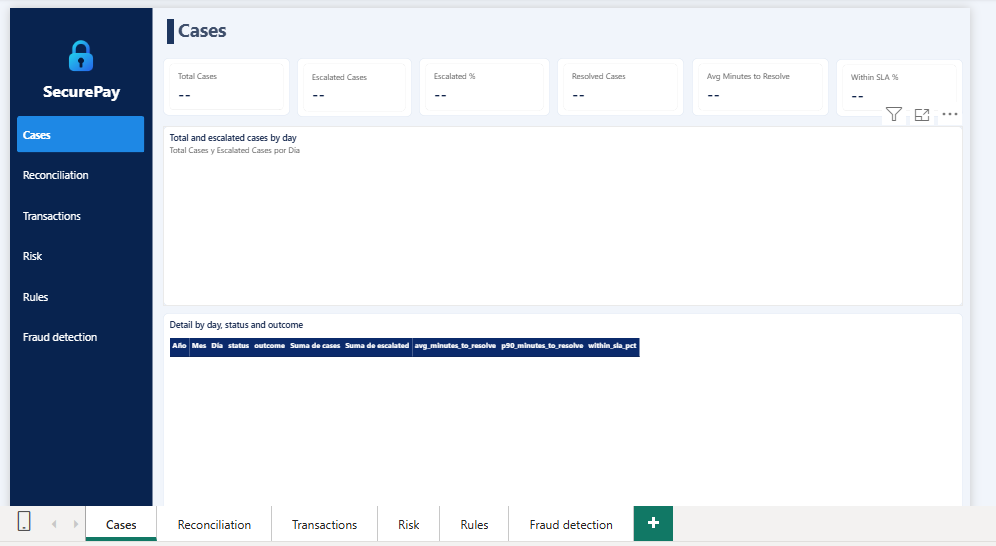

What the dashboard file says about the page in this screenshot:
{"tool":"powerbi","page":{"name":"Cases","canvas":[1920,1080],"ordinal":0},"visuals":[{"type":"cardVisual","fields":{"Data":["q4_cases.Total Cases"]},"box":[382.3,99.4,185.8,118.8],"z":0},{"type":"cardVisual","fields":{"Data":["q4_cases.Escalated Cases"]},"box":[648,99.4,179.3,118.8],"z":1000},{"type":"cardVisual","fields":{"Data":["q4_cases.Escalated %"]},"box":[911.5,99.4,194.4,118.8],"z":2000},{"type":"cardVisual","fields":{"Data":["q4_cases.Resolved Cases"]},"box":[1181.5,99.4,183.6,123.1],"z":3000},{"type":"cardVisual","fields":{"Data":["q4_cases.Within SLA %"]},"box":[1725.8,99.4,164.2,123.1],"z":4000},{"type":"cardVisual","fields":{"Data":["q4_cases.Avg Minutes to Resolve"]},"box":[1451.5,99.4,172.8,118.8],"z":5000},{"type":"tableEx","fields":{"Values":["q4_cases.day.Variation.Jerarquía de fechas.Año","q4_cases.day.Variation.Jerarquía de fechas.Mes","q4_cases.day.Variation.Jerarquía de fechas.Día","q4_cases.status","q4_cases.outcome","Sum(q4_cases.cases)","Sum(q4_cases.escalated)","q4_cases.avg_minutes_to_resolve","q4_cases.p90_minutes_to_resolve","q4_cases.within_sla_pct"]},"box":[585.4,730.1,1039,250.6],"z":6000},{"type":"clusteredColumnChart","fields":{"Category":["q4_cases.day.Variation.Jerarquía de fechas.Día"],"Y":["q4_cases.Total Cases","q4_cases.Escalated Cases"]},"box":[322,282,1568,345],"z":7000},{"type":"pageNavigator","box":[15,190,255,480],"z":7001}]}

Visuals, with their boxes on the page's 1920x1080 design canvas (x1, y1, x2, y2). These are canvas units, not pixel positions in the 996x546 screenshot, which may show the page scaled, cropped or inside an application window:
cardVisual - q4_cases.Total Cases: pyautogui.locateOnScreen(382, 99, 568, 218)
cardVisual - q4_cases.Escalated Cases: pyautogui.locateOnScreen(648, 99, 827, 218)
cardVisual - q4_cases.Escalated %: pyautogui.locateOnScreen(912, 99, 1106, 218)
cardVisual - q4_cases.Resolved Cases: pyautogui.locateOnScreen(1182, 99, 1365, 222)
cardVisual - q4_cases.Within SLA %: pyautogui.locateOnScreen(1726, 99, 1890, 222)
cardVisual - q4_cases.Avg Minutes to Resolve: pyautogui.locateOnScreen(1452, 99, 1624, 218)
tableEx - q4_cases.day.Variation.Jerarquía de fechas.Año x q4_cases.day.Variation.Jerarquía de fechas.Mes: pyautogui.locateOnScreen(585, 730, 1624, 981)
clusteredColumnChart - q4_cases.day.Variation.Jerarquía de fechas.Día x q4_cases.Total Cases: pyautogui.locateOnScreen(322, 282, 1890, 627)
pageNavigator: pyautogui.locateOnScreen(15, 190, 270, 670)
